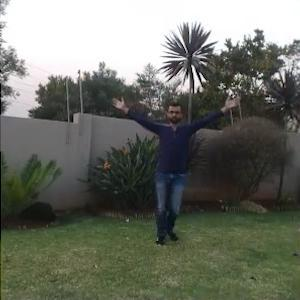takeoff: (109, 95, 258, 248)
